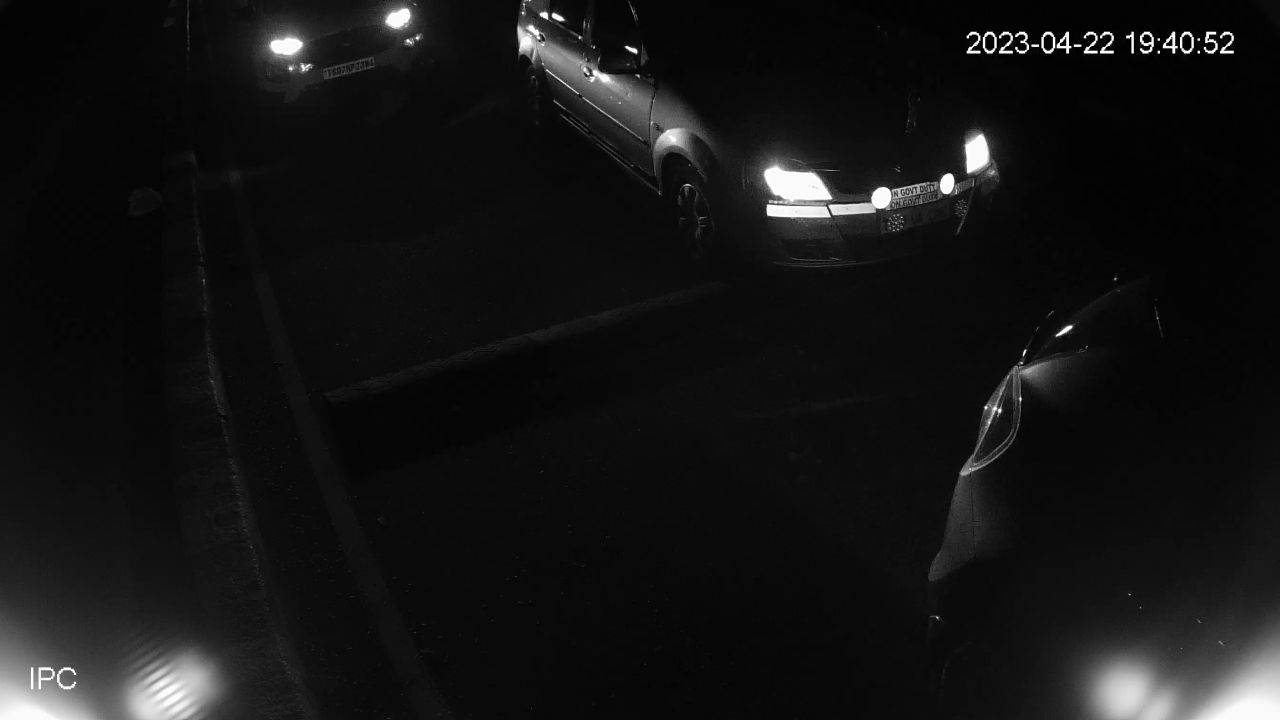license_plate: (875, 196, 957, 237), (318, 50, 380, 86)
